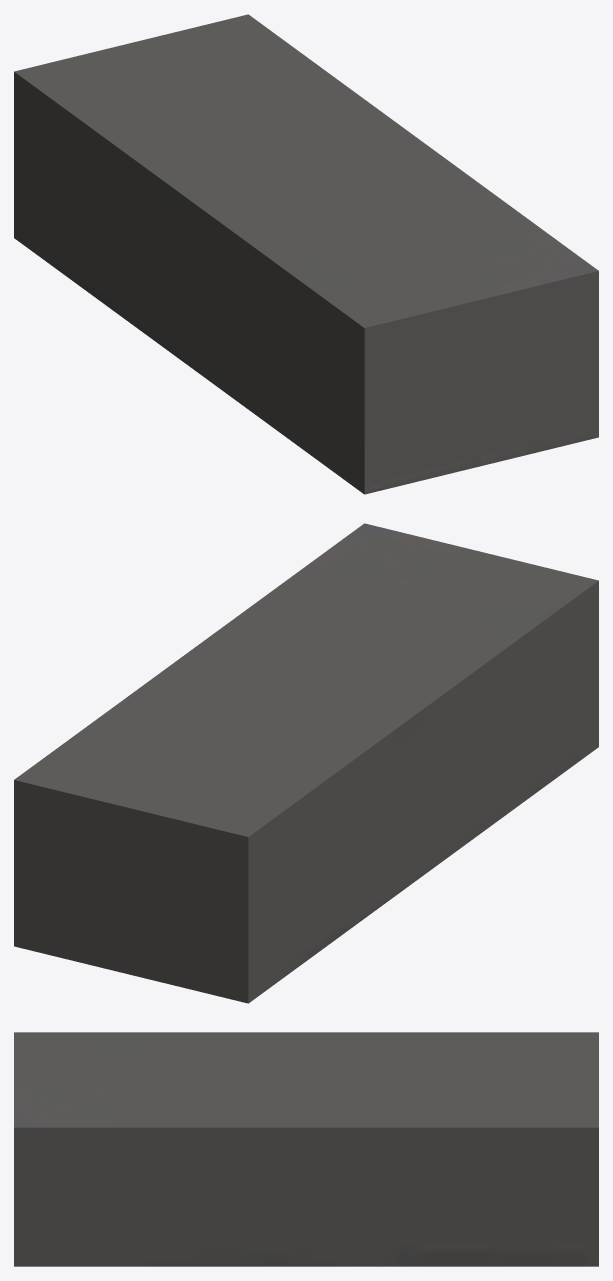
The model's file is frame__seat_hinge_tab_0.glb.
3 views of the same model, one above another, from view 1: azimuth 30°, elevation 25°; view 2: azimuth 150°, elevation 25°; view 3: azimuth 270°, elevation 25° (orthographic). The views are drawn at different scales.
Visible parts, largest first — view 1: world; view 2: world; view 3: world.
Part boxes in pixels (x1,y1,x2,y2): world: [14, 14, 598, 494]; world: [14, 523, 598, 1003]; world: [14, 1032, 598, 1266].
Size of the model in its own units: 0.056 by 0.038 by 0.145.
Materials: 1 (1 with a texture image).
